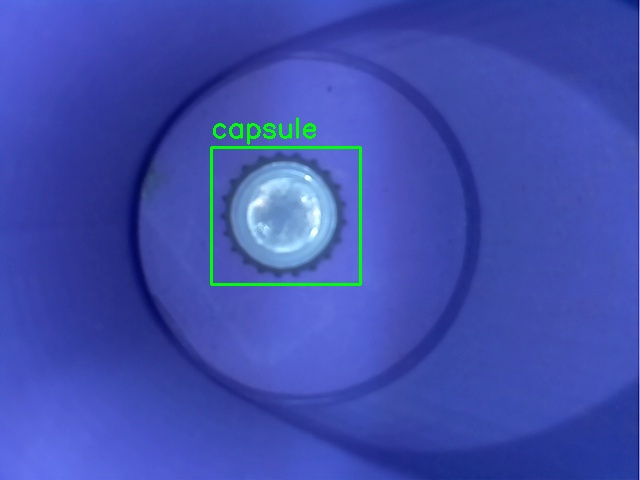capsule: (211, 147, 360, 284)
